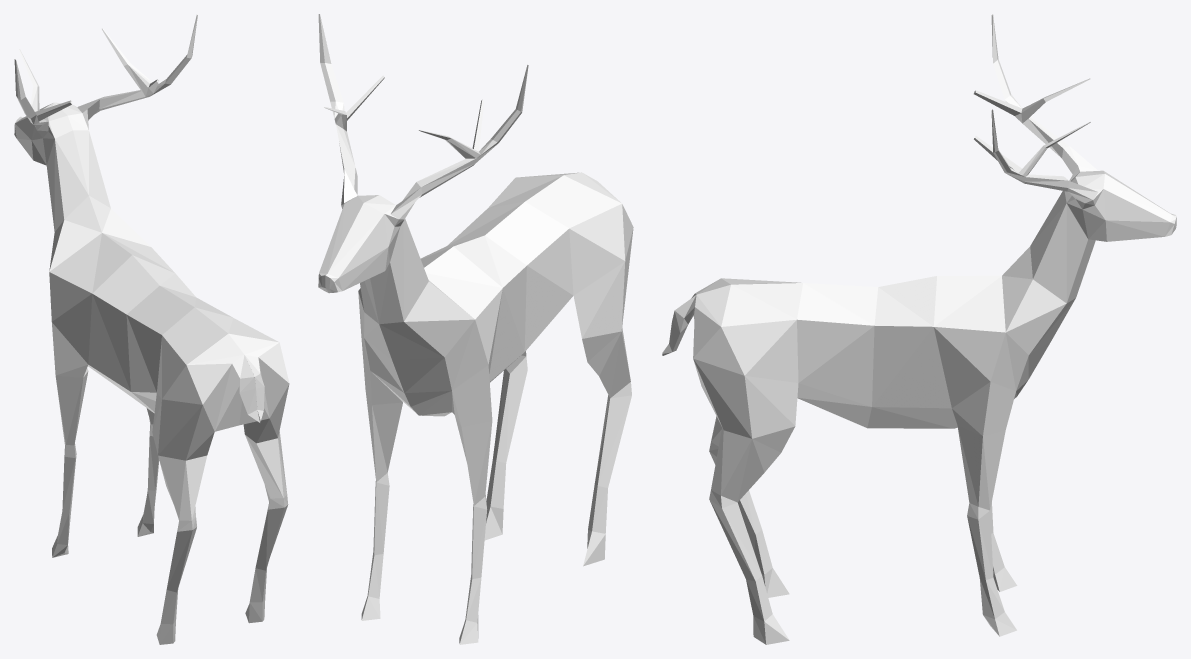
The model's file is Deer.FBX.
3 renders of one model, left to right at view 1: azimuth 30°, elevation 25°; view 2: azimuth 150°, elevation 25°; view 3: azimuth 270°, elevation 25°, orthographic. The views are drawn at different scales.
Visible parts, largest first — view 1: DEER; view 2: DEER; view 3: DEER.
Part boxes in pixels (x1=…): DEER: x1=14, y1=14, x2=289, y2=644; DEER: x1=318, y1=14, x2=633, y2=644; DEER: x1=662, y1=14, x2=1176, y2=644.
Size of the model in its own units: 24.2 by 65.42 by 54.89.
1 material, 1 textured.
